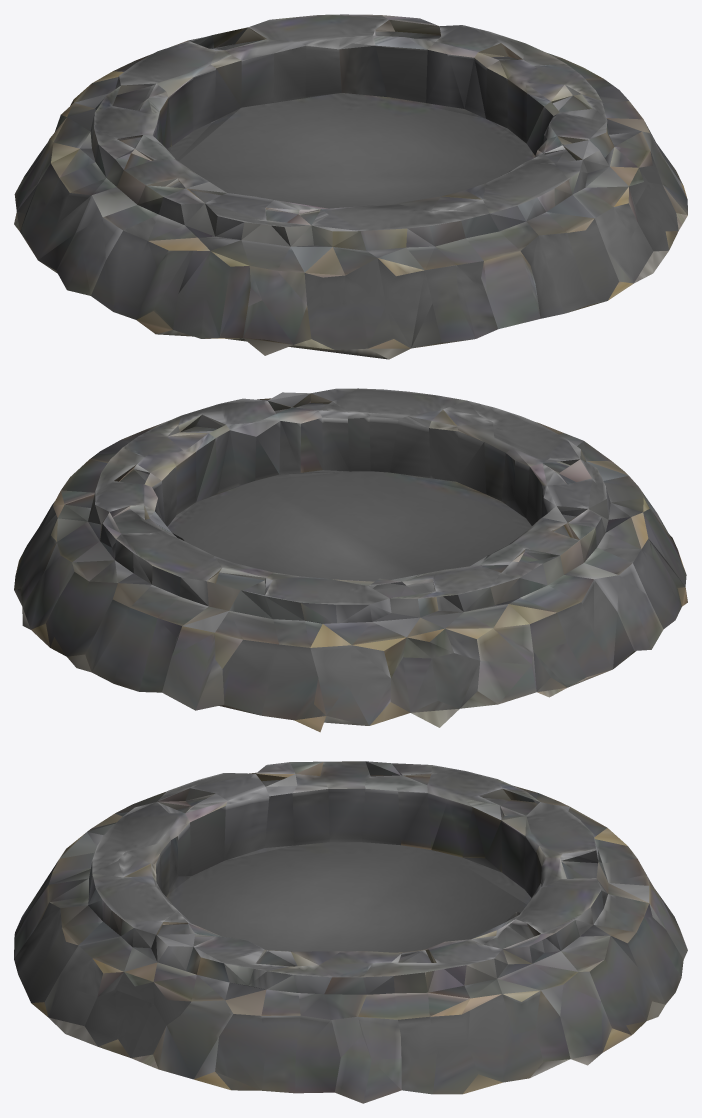
Rendered from imperial_point_defence_turret_lod2.glb.
3 views of the same model, one above another, from view 1: azimuth 30°, elevation 25°; view 2: azimuth 150°, elevation 25°; view 3: azimuth 270°, elevation 25° (orthographic).
Visible parts, largest first — view 1: mesh_node; view 2: mesh_node; view 3: mesh_node.
Part boxes in pixels (box(x1,y1,x2,y2)): mesh_node: box(14, 14, 687, 359); mesh_node: box(14, 388, 687, 732); mesh_node: box(14, 761, 687, 1103).
Size of the model in its own units: 7.58 by 1.17 by 7.52.
1 material, 1 textured.
